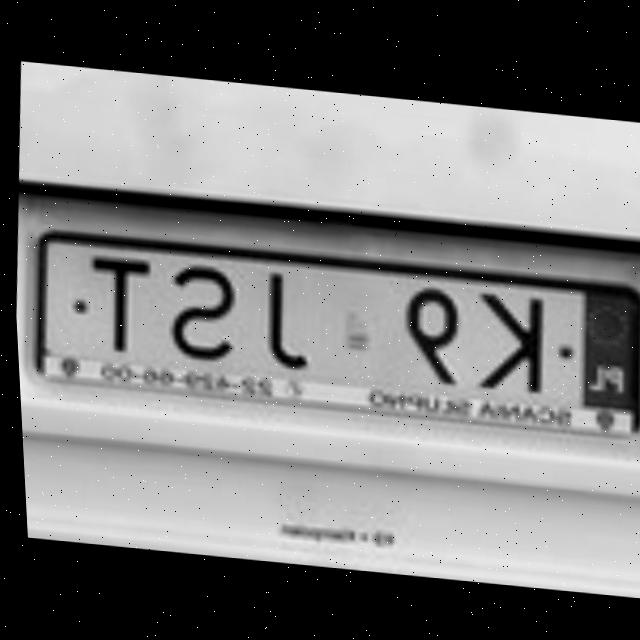license-plates: (37, 233, 638, 435)
